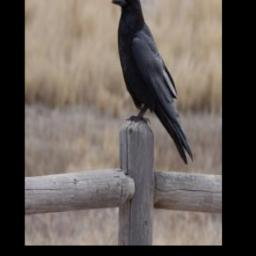Crow: (110, 0, 194, 167)
